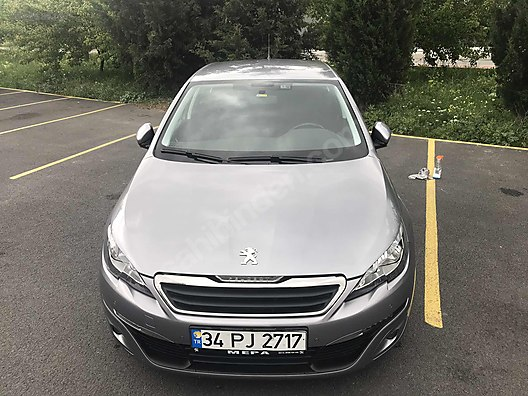peugeot: (100, 56, 420, 378)
